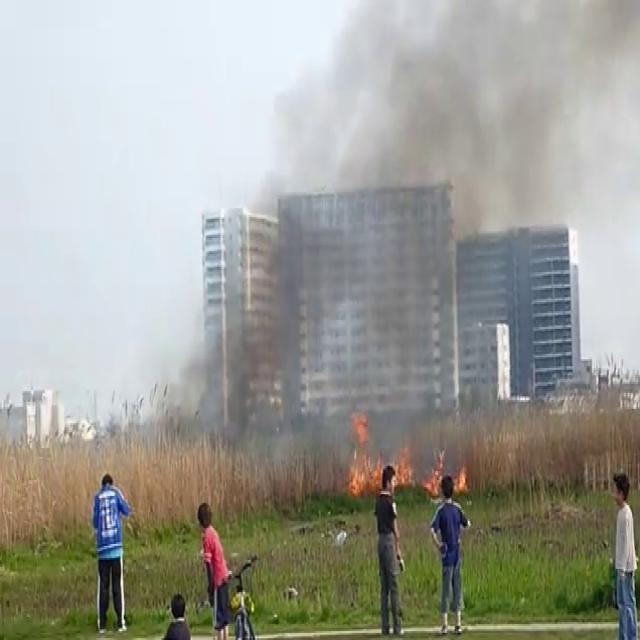Fire: (343, 405, 386, 496), (419, 442, 473, 498)
Smoke: (260, 0, 640, 446)
